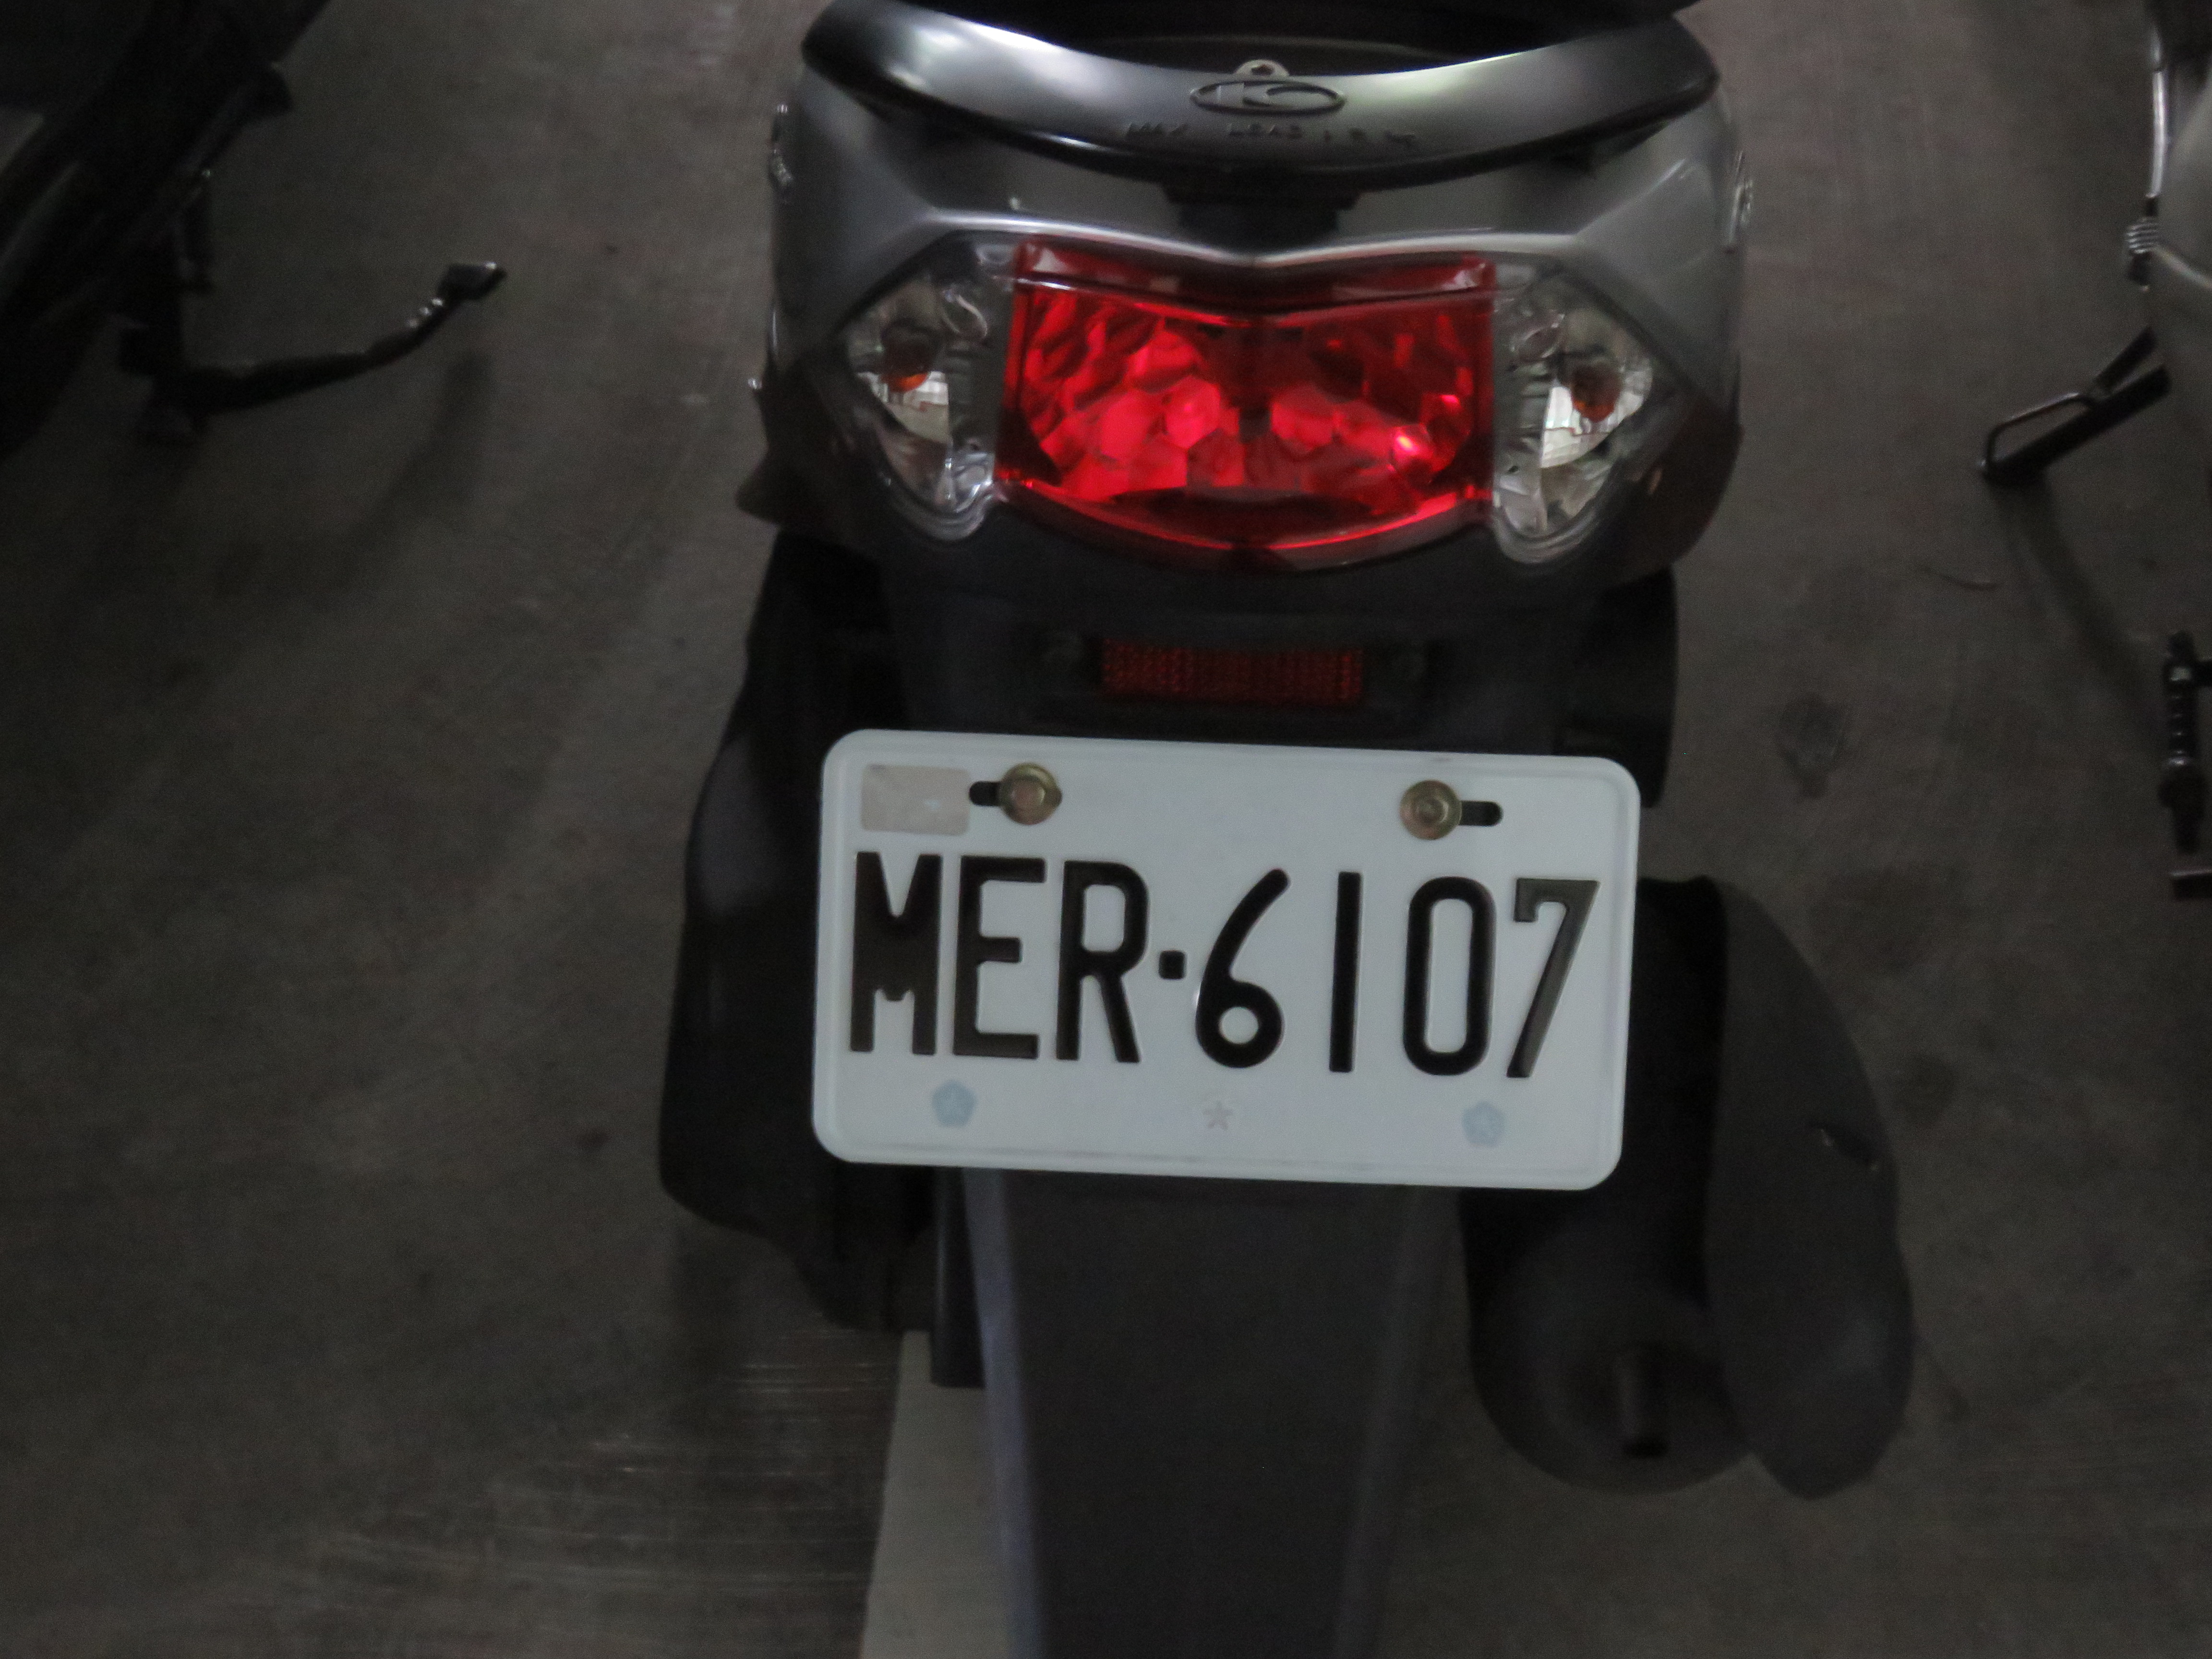car_card: (829, 742, 1613, 1185)
moto: (650, 0, 1752, 1595)
